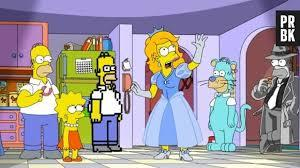Homer: (14, 40, 64, 162), (87, 48, 133, 153)
Lisa: (51, 89, 97, 160)
